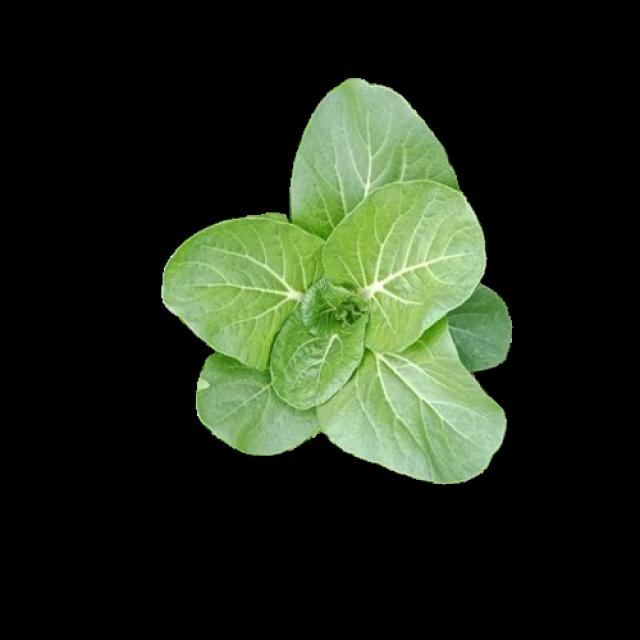healthy: (161, 79, 511, 480)
mature: (164, 82, 513, 482)
